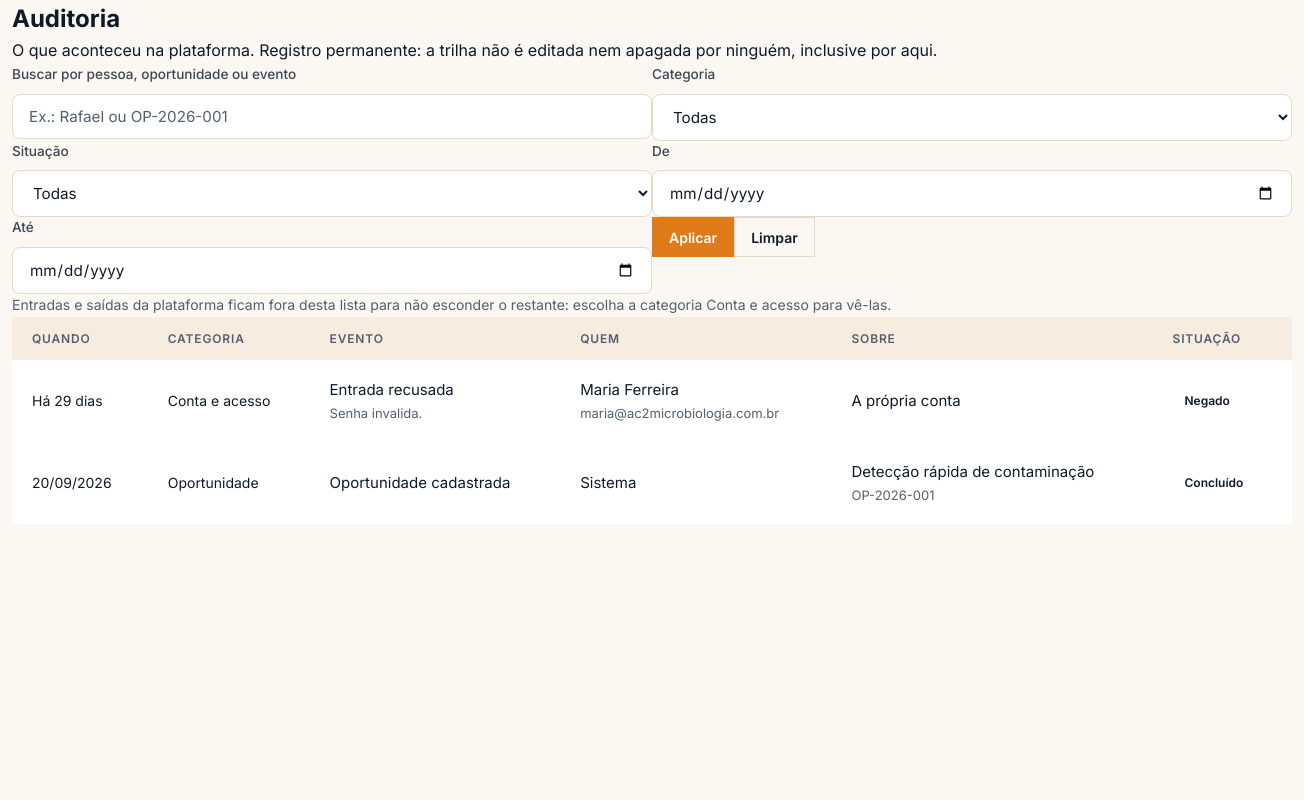
Test: Console — Auditoria › período invertido é recusado antes de ir ao servidor
This screenshot has width=1304, height=800.
Expected: the text "Entrada recusada" is shown, x1=330 y1=380 x2=454 y2=399
Type "2026-09-30" into the date field labelled "De" at (972, 194), box x1=652 y1=170 x2=1292 y2=218
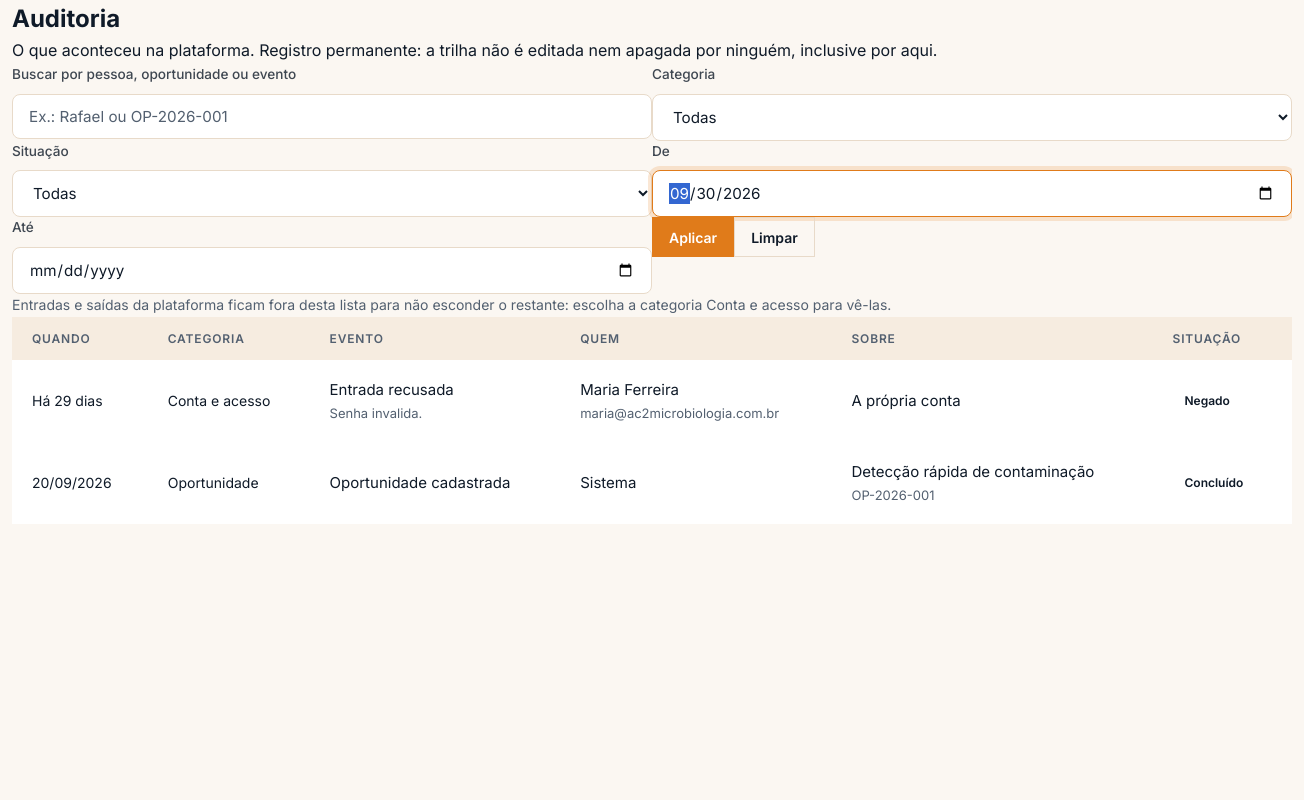
Type "2026-09-01" into the date field labelled "Até" at (332, 271), box x1=12 y1=247 x2=652 y2=294
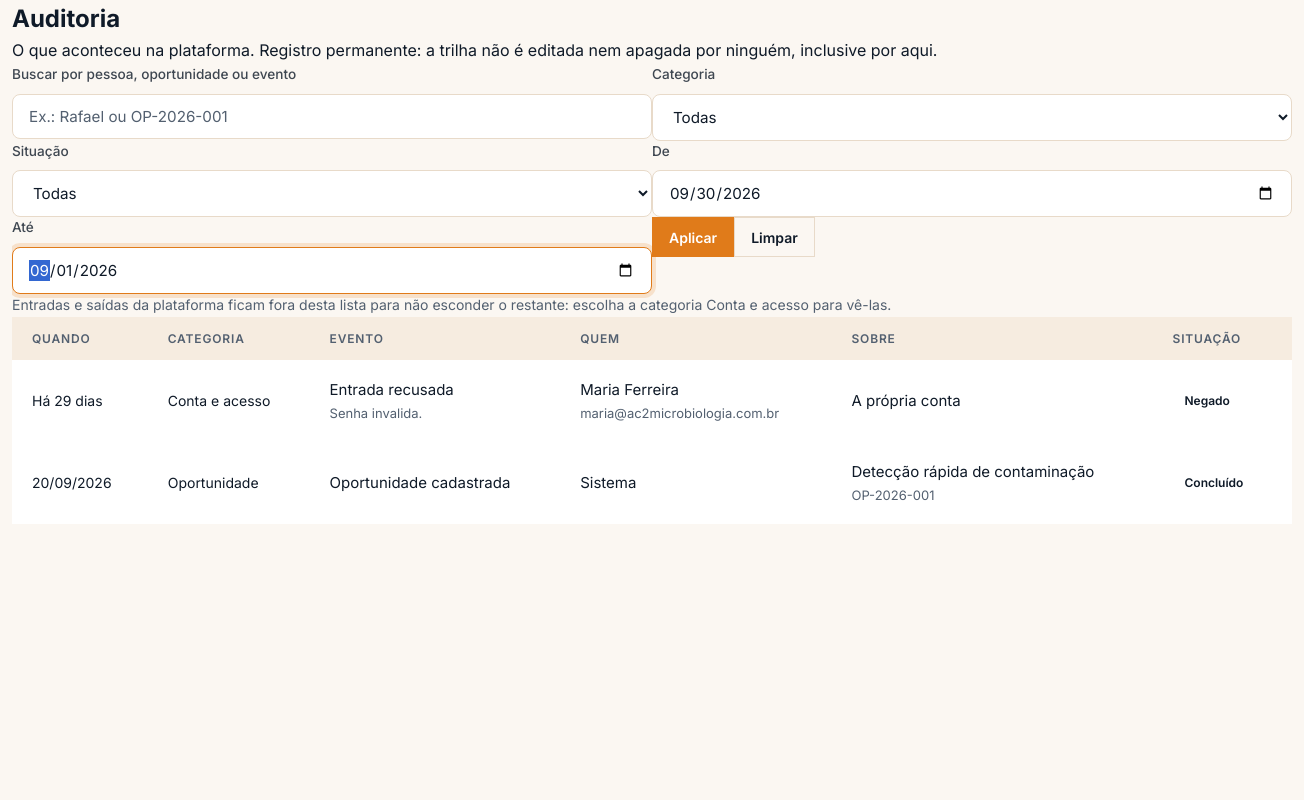
Click the button "Aplicar" at (693, 238), box x1=652 y1=218 x2=734 y2=258
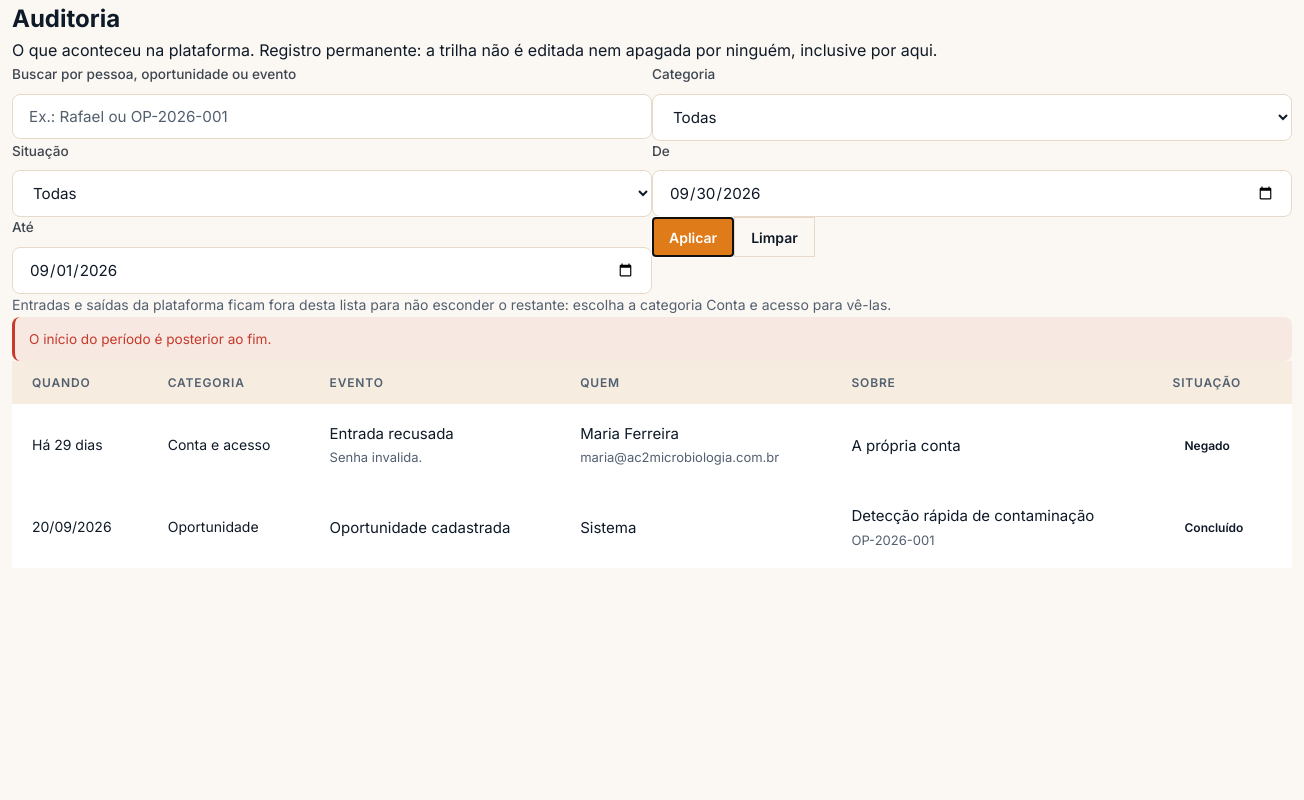
Result: the message shows "posterior" at x1=29 y1=331 x2=271 y2=347
